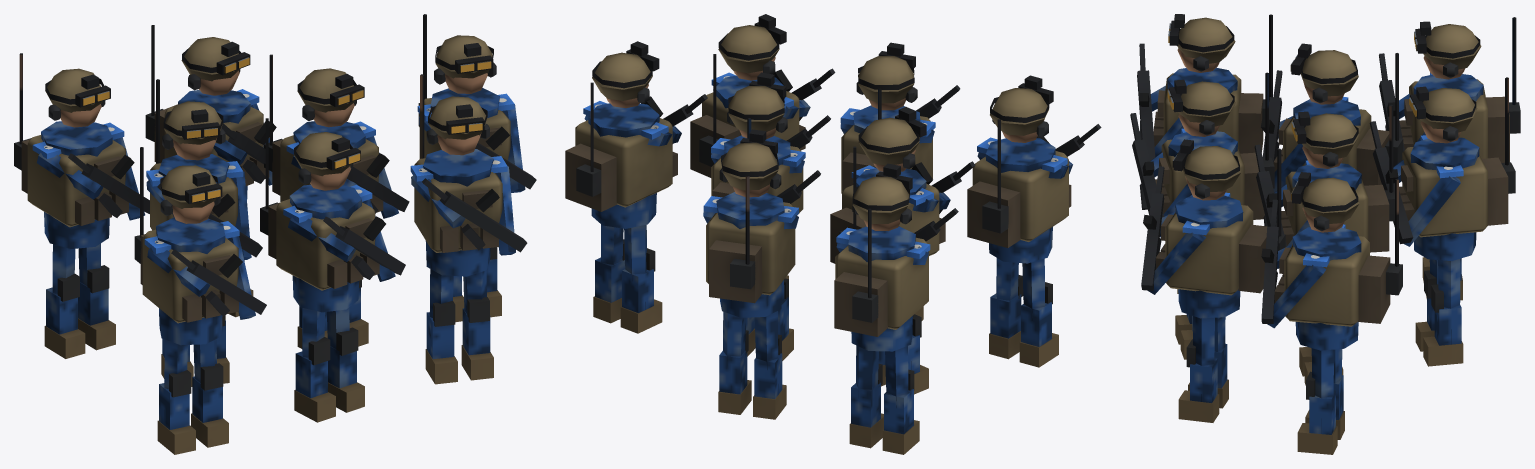
The model's file is squad_dl7_blue.glb.
The picture shows the model from 3 angles, left to right: view 1: azimuth 30°, elevation 25°; view 2: azimuth 150°, elevation 25°; view 3: azimuth 270°, elevation 25°; orthographic projection. The views are drawn at different scales.
Visible parts, largest first — view 1: squad_dl7_blue; view 2: squad_dl7_blue; view 3: squad_dl7_blue.
Part boxes in pixels (x1=…): squad_dl7_blue: x1=14, y1=14, x2=536, y2=454; squad_dl7_blue: x1=565, y1=14, x2=1101, y2=454; squad_dl7_blue: x1=1130, y1=14, x2=1520, y2=454.
Bounding box in the file's own units: 0.6365 × 0.3857 × 0.5164.
1 material, 1 textured.
